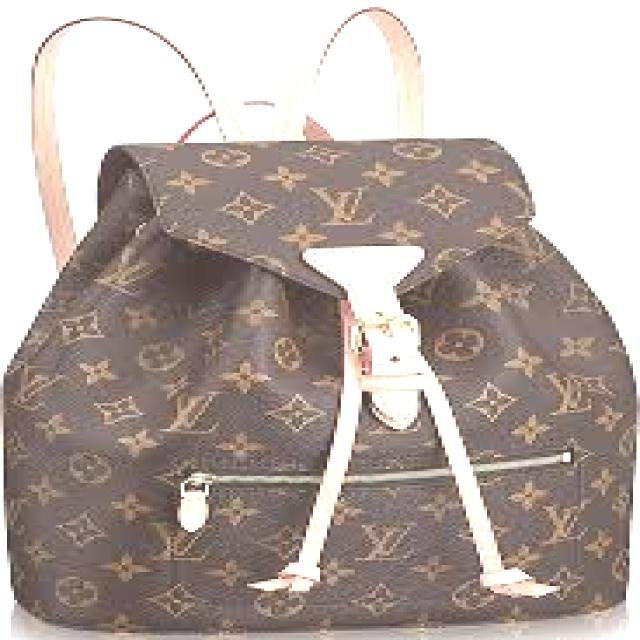backpack: (2, 6, 638, 634)
